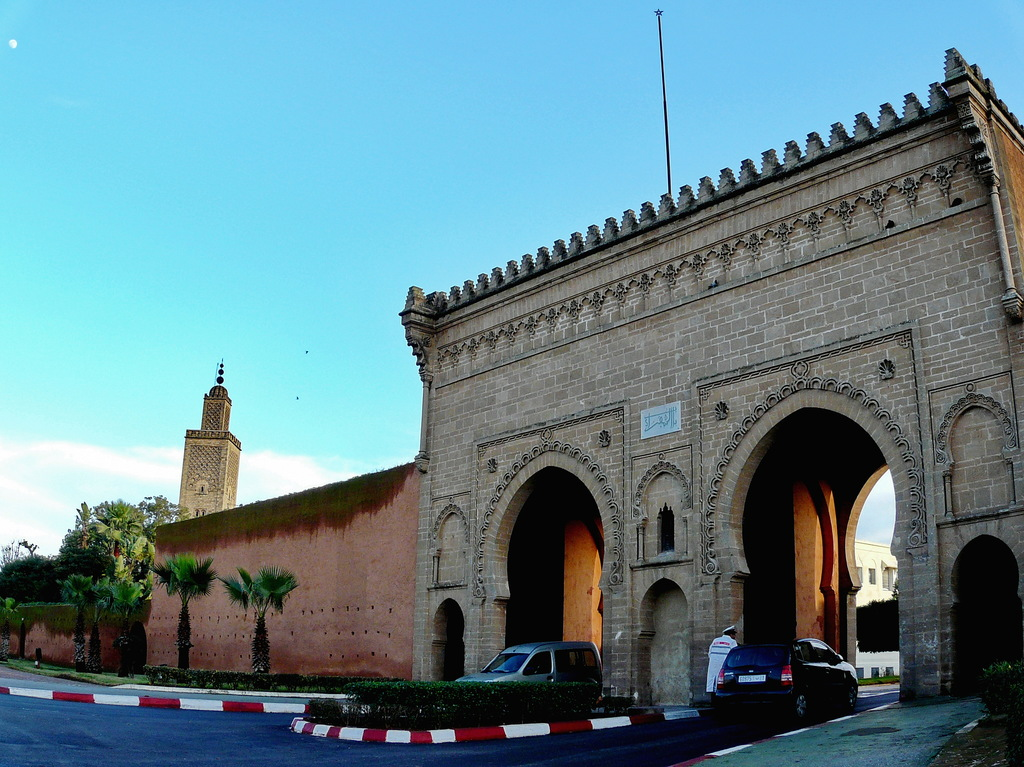cars: (714, 638, 859, 723), (456, 644, 603, 691)
